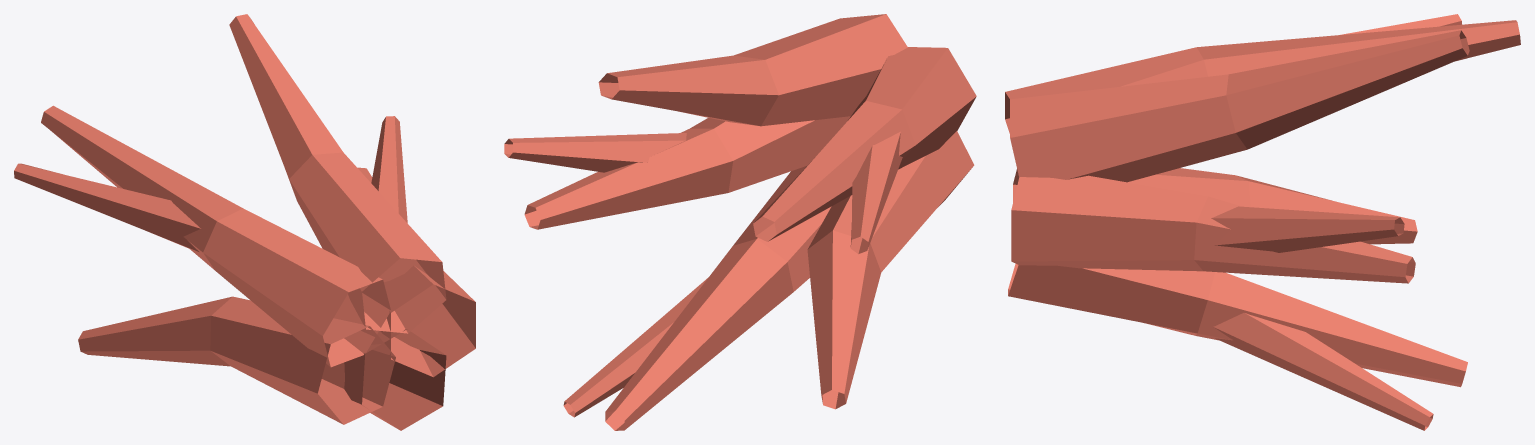
Rendered from coral_branch.glb.
3 views of the same model, side by side, from view 1: azimuth 30°, elevation 25°; view 2: azimuth 150°, elevation 25°; view 3: azimuth 270°, elevation 25° (orthographic). The views are drawn at different scales.
Parts seen in each view (by area): view 1: CORAL_BRANCH; view 2: CORAL_BRANCH; view 3: CORAL_BRANCH.
Boxes of the visible parts, <box> form: CORAL_BRANCH: <box>14,14,475,430</box>; CORAL_BRANCH: <box>504,14,976,430</box>; CORAL_BRANCH: <box>1005,14,1520,430</box>.
Size of the model in its own units: 0.8474 by 0.7546 by 0.9571.
